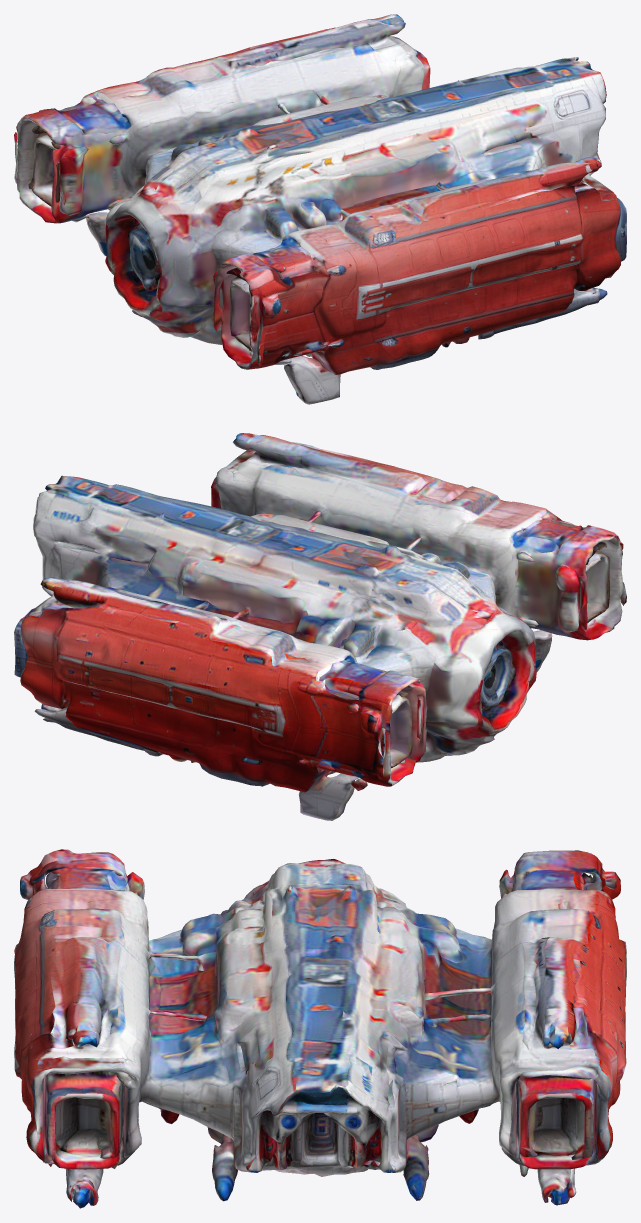
Rendered from Spaceship_4_1016112905.fbx.
3 views of the same model, one above another, from view 1: azimuth 30°, elevation 25°; view 2: azimuth 150°, elevation 25°; view 3: azimuth 270°, elevation 25° (orthographic). The views are drawn at different scales.
Visible parts, largest first — view 1: Mesh_0; view 2: Mesh_0; view 3: Mesh_0.
Part boxes in pixels (left/top/right/bottom): Mesh_0: left=14, top=14, right=626, bottom=404; Mesh_0: left=14, top=433, right=626, bottom=820; Mesh_0: left=14, top=849, right=626, bottom=1208.
Size of the model in its own units: 100 by 40.51 by 95.64.
1 material, 1 textured.
